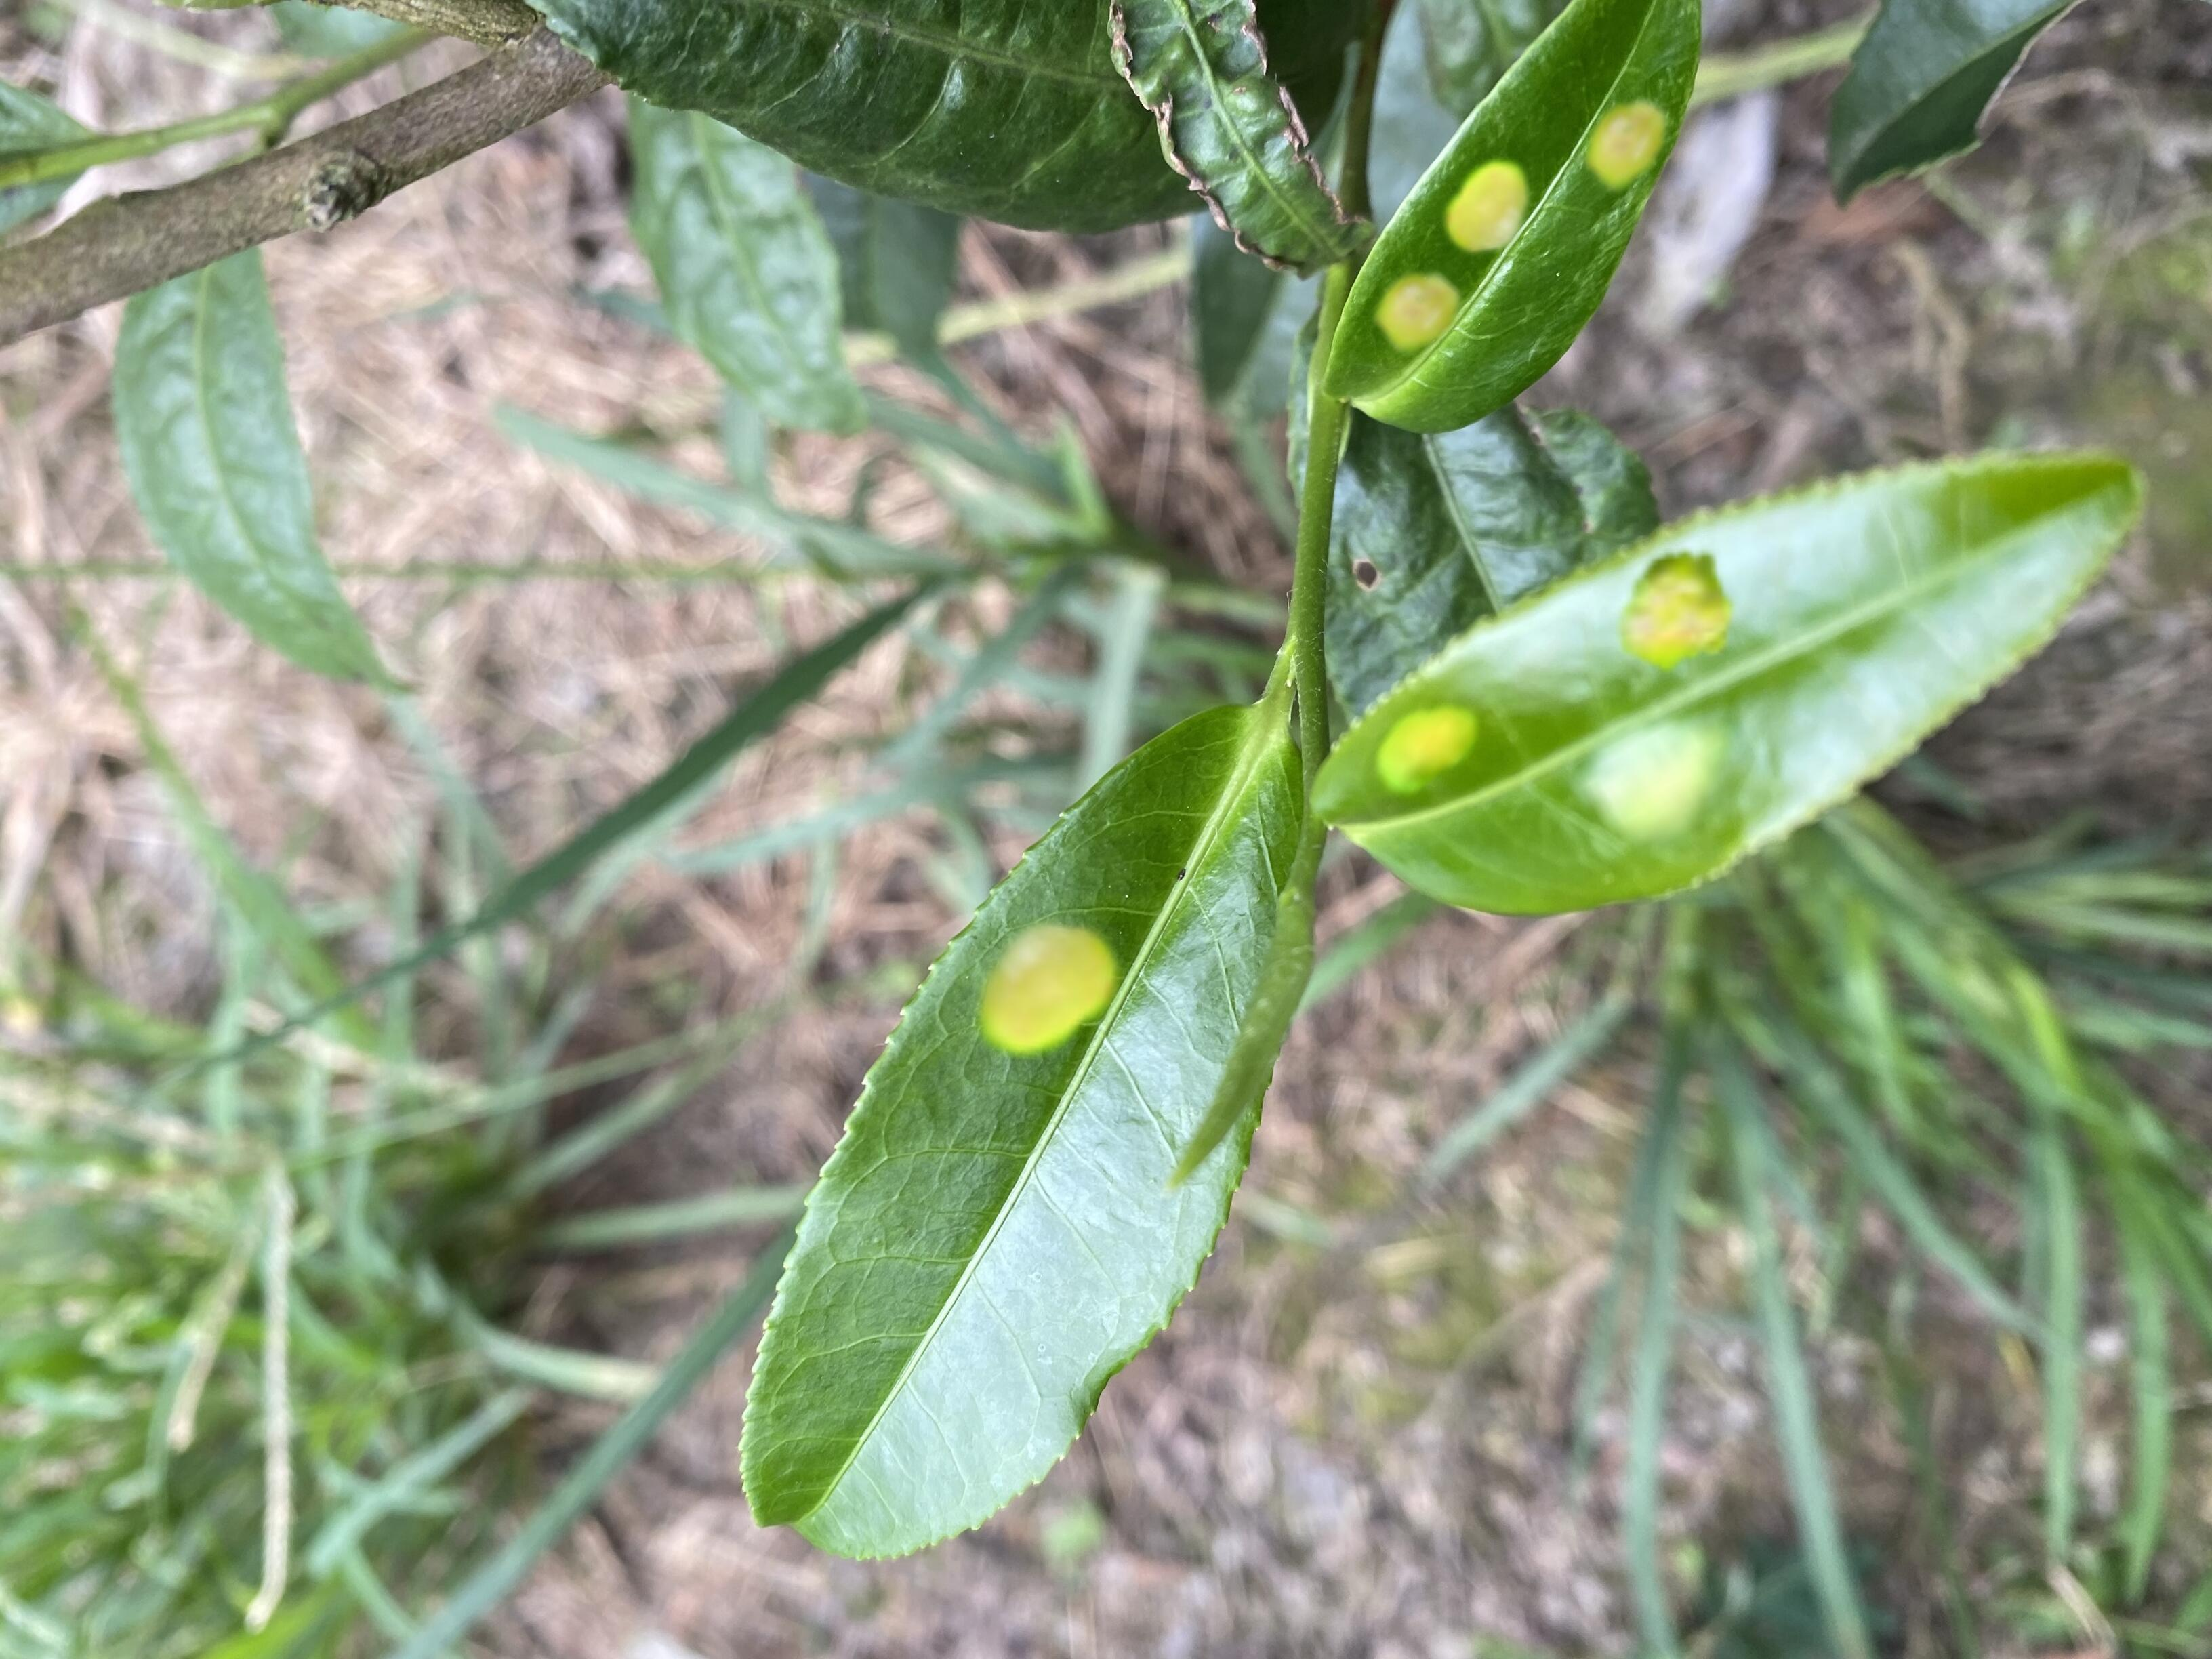chabing_high: (1305, 446, 2148, 920), (1324, 3, 1707, 436)
chabing_low: (738, 704, 1312, 1567)
tanju_high: (1104, 3, 1372, 281)
